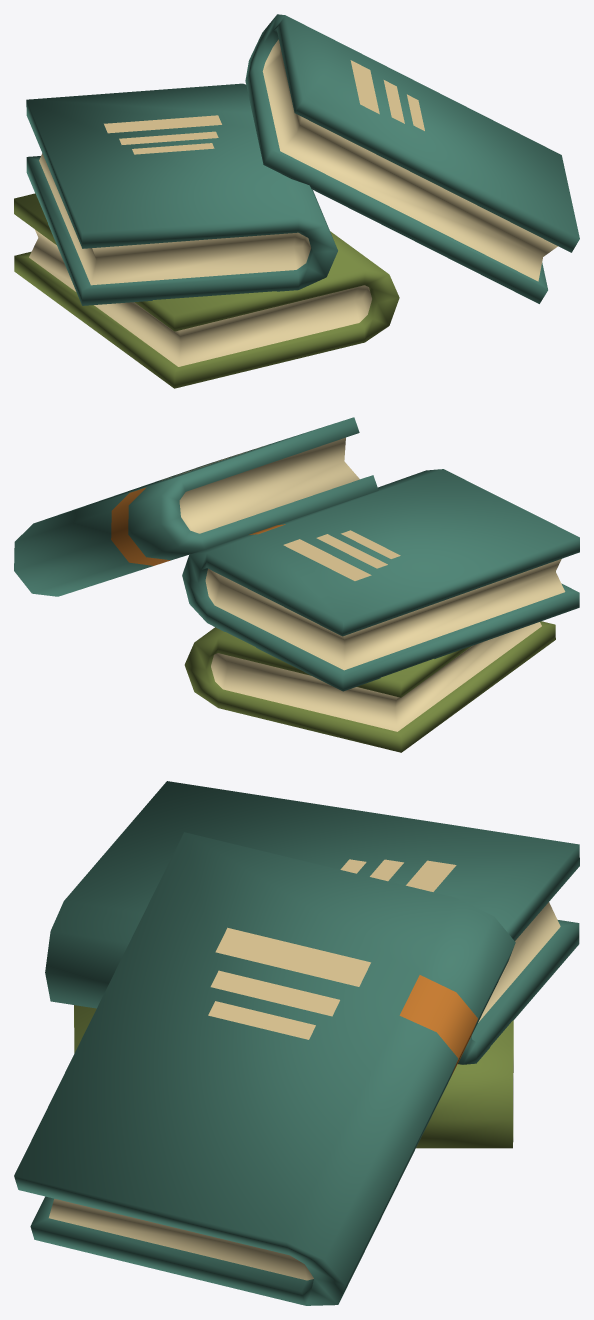
The model's file is rpgpp_ag_book_pile_01d.fbx.
The picture shows the model from 3 angles, top to bottom: view 1: azimuth 30°, elevation 25°; view 2: azimuth 150°, elevation 25°; view 3: azimuth 270°, elevation 25°; orthographic projection. The views are drawn at different scales.
Visible parts, largest first — view 1: rpgpp_ag_book_pile_01d; view 2: rpgpp_ag_book_pile_01d; view 3: rpgpp_ag_book_pile_01d.
Part boxes in pixels (<box>): rpgpp_ag_book_pile_01d: <box>14,14,579,388</box>; rpgpp_ag_book_pile_01d: <box>14,417,579,752</box>; rpgpp_ag_book_pile_01d: <box>14,781,579,1305</box>.
Size of the model in its own units: 0.5723 by 0.2266 by 0.3875.
